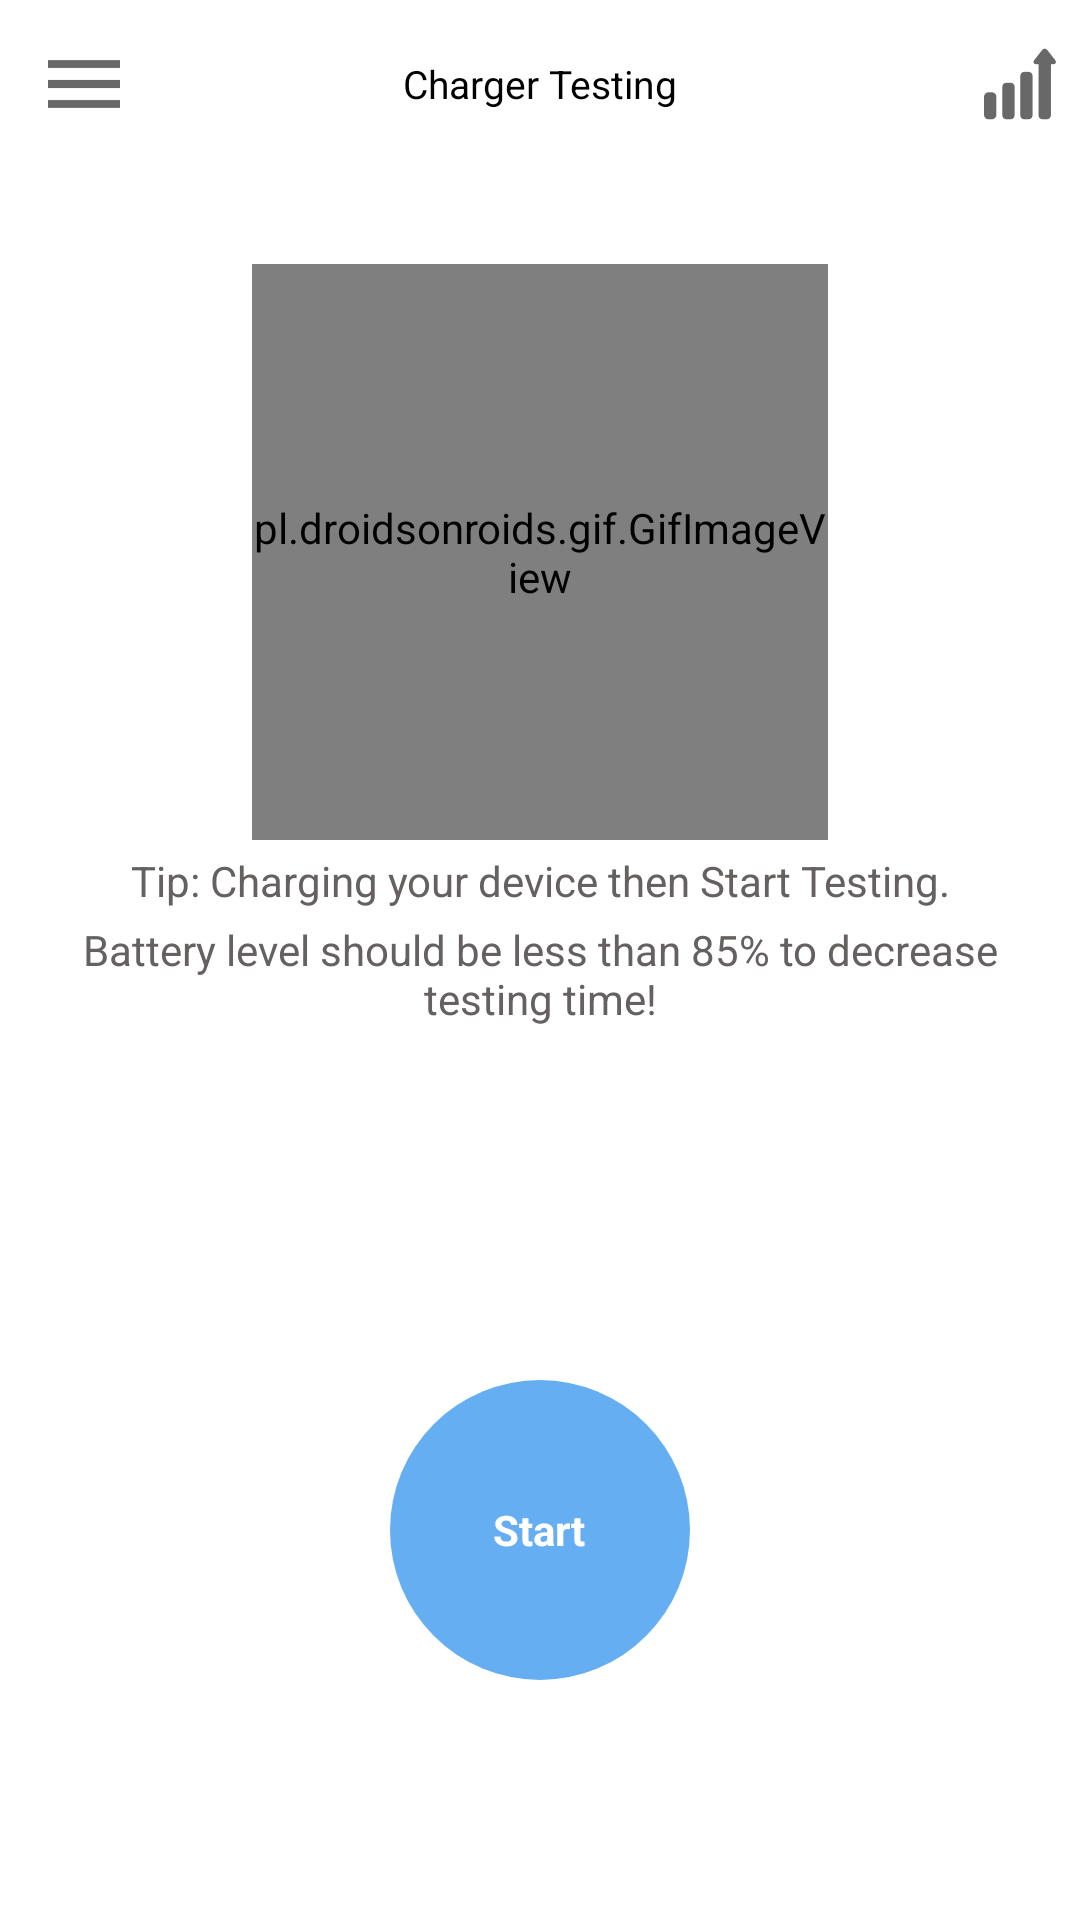

Point at icon controls on the screen. Image size 1080×1920, points as [x,y].
menu: [84,84]
